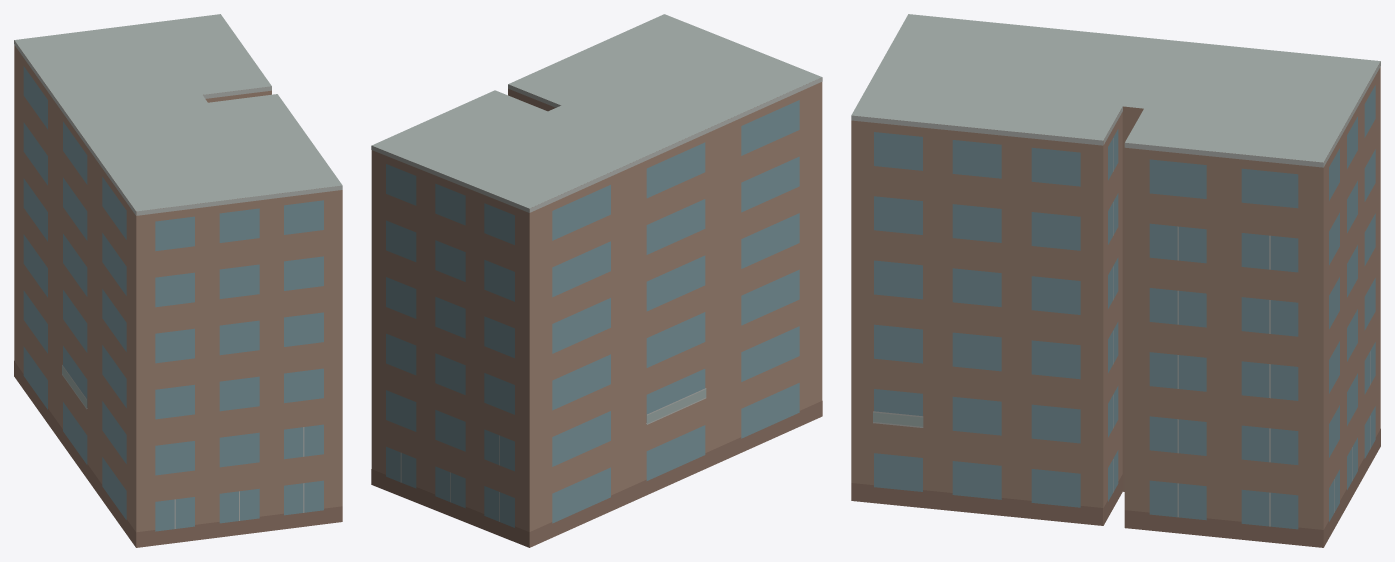
Rendered from survey-upis-32984758.glb.
The picture shows the model from 3 angles, left to right: view 1: azimuth 30°, elevation 25°; view 2: azimuth 150°, elevation 25°; view 3: azimuth 270°, elevation 25°; orthographic projection. The views are drawn at different scales.
Visible parts, largest first — view 1: survey-upis-32984758.tmp; view 2: survey-upis-32984758.tmp; view 3: survey-upis-32984758.tmp.
Part boxes in pixels (x1,y1,x2,y2): survey-upis-32984758.tmp: (14, 14, 342, 547); survey-upis-32984758.tmp: (371, 14, 822, 547); survey-upis-32984758.tmp: (851, 14, 1380, 547).
Bounding box in the file's own units: 15.47 × 18.7 × 23.3.
